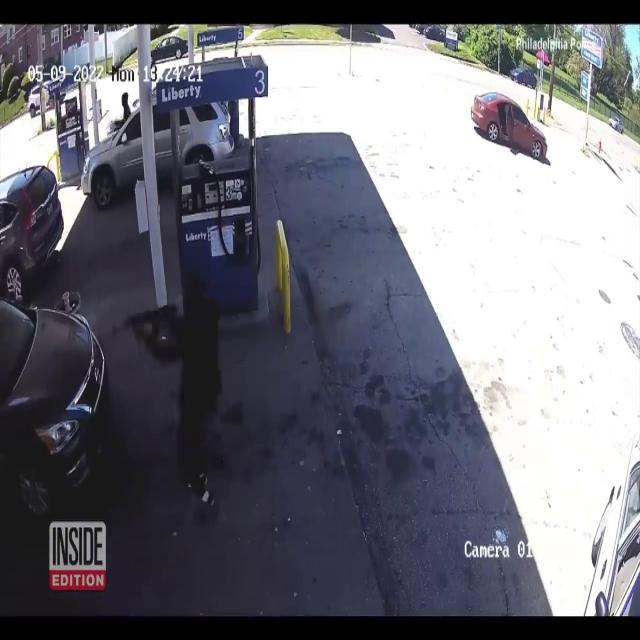penembakan: (120, 268, 230, 526)
